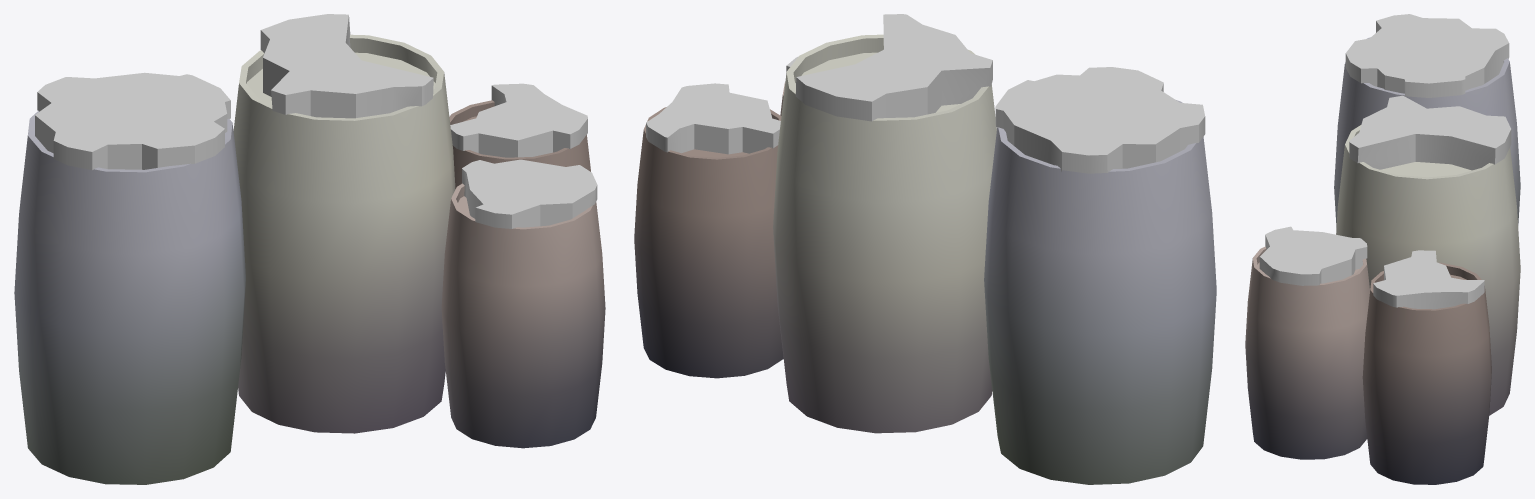
The model's file is Barrel.fbx.
The picture shows the model from 3 angles, left to right: view 1: azimuth 30°, elevation 25°; view 2: azimuth 150°, elevation 25°; view 3: azimuth 270°, elevation 25°; orthographic projection. The views are drawn at different scales.
Parts seen in each view (by area): view 1: Barrels; view 2: Barrels; view 3: Barrels.
Boxes of the visible parts, x1,y1,x2,y2 form: Barrels: [14, 14, 605, 484]; Barrels: [634, 14, 1216, 484]; Barrels: [1245, 14, 1520, 484].
Size of the model in its own units: 186 by 106 by 100.
